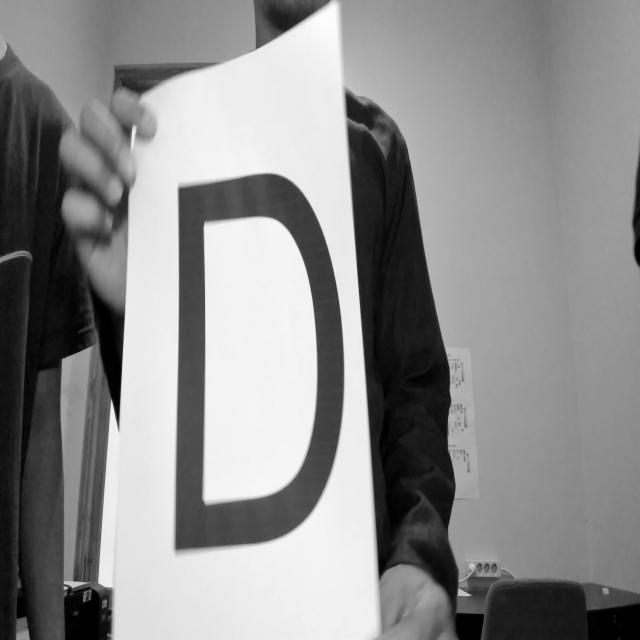d: (166, 160, 358, 565)
